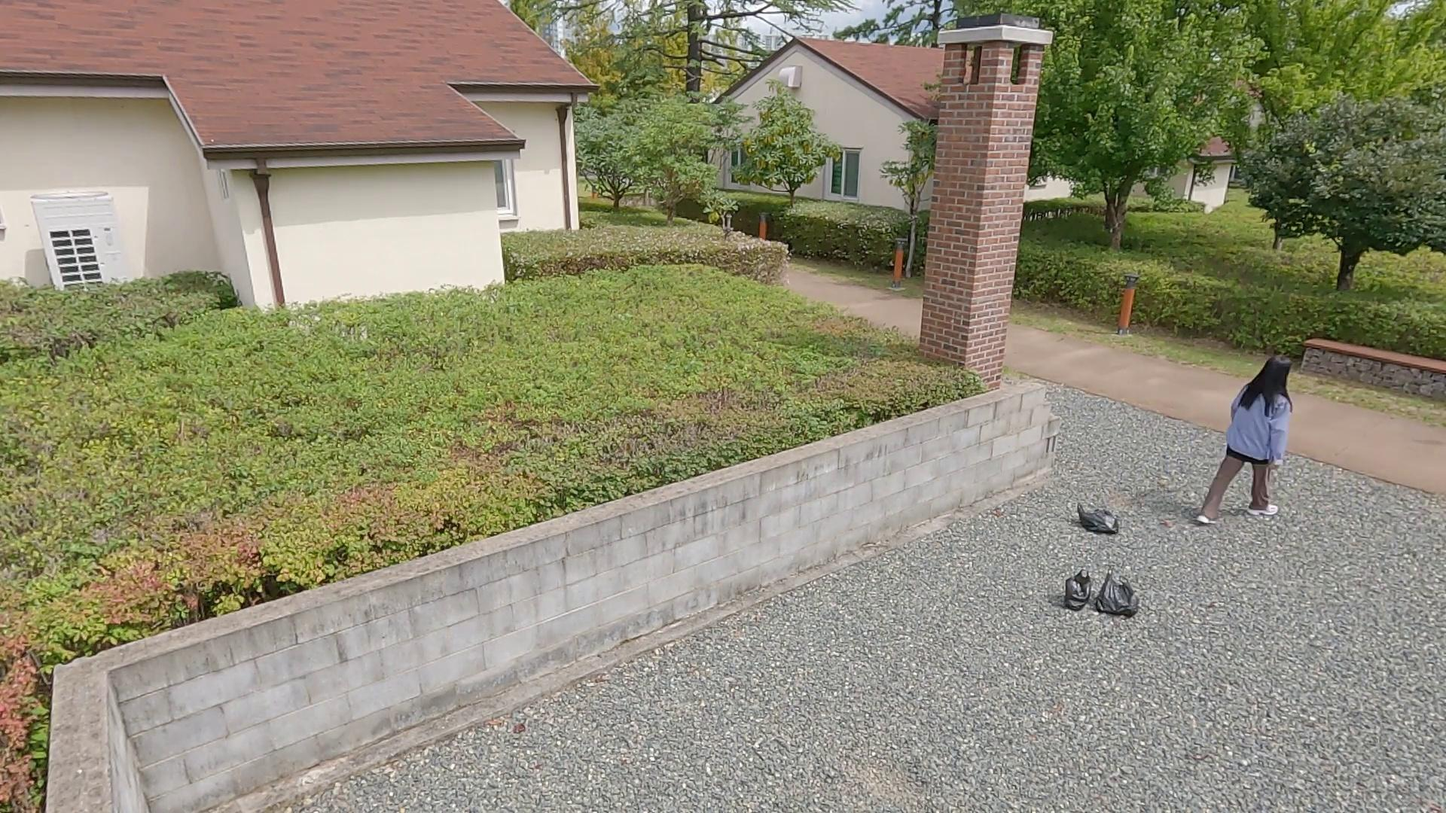person: (1196, 353, 1295, 532)
trash: (1096, 569, 1140, 619), (1076, 499, 1120, 536), (1065, 566, 1092, 611)
